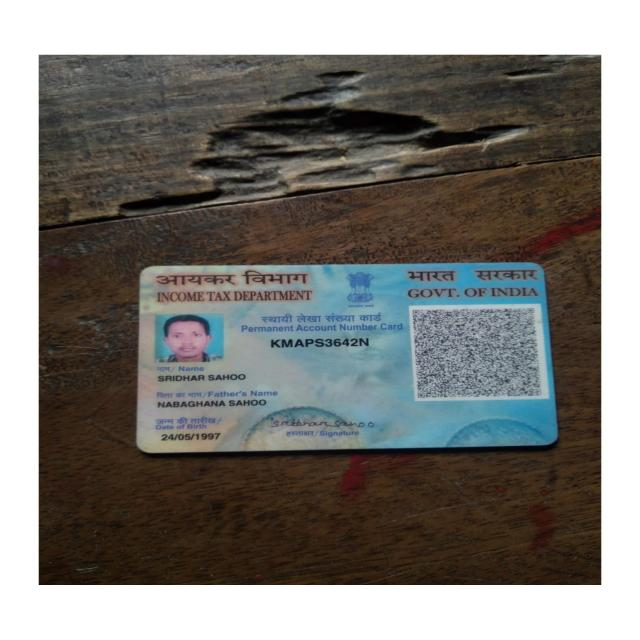pan_card: (137, 262, 561, 451)
